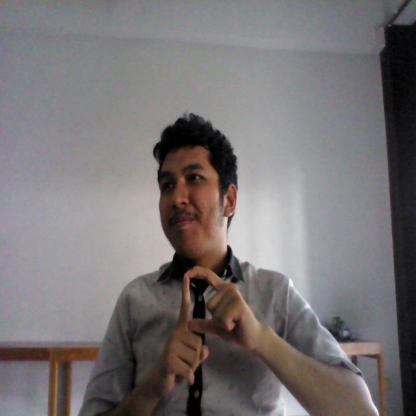D: (156, 262, 263, 398)
